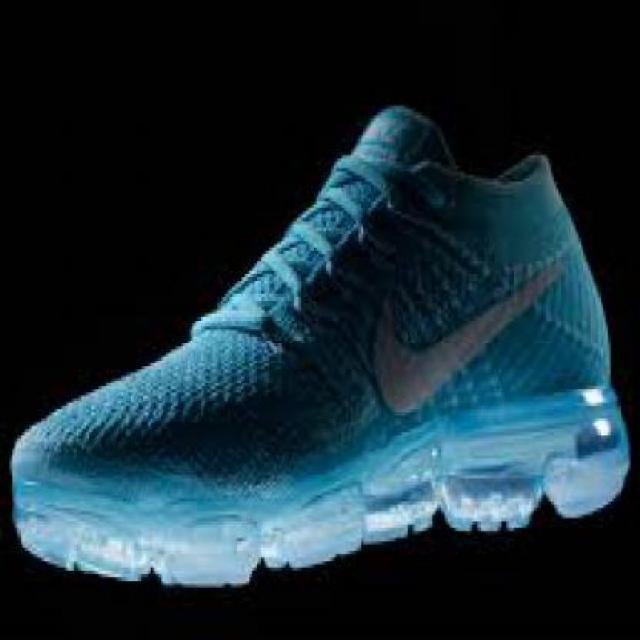Nike: (366, 258, 566, 420)
